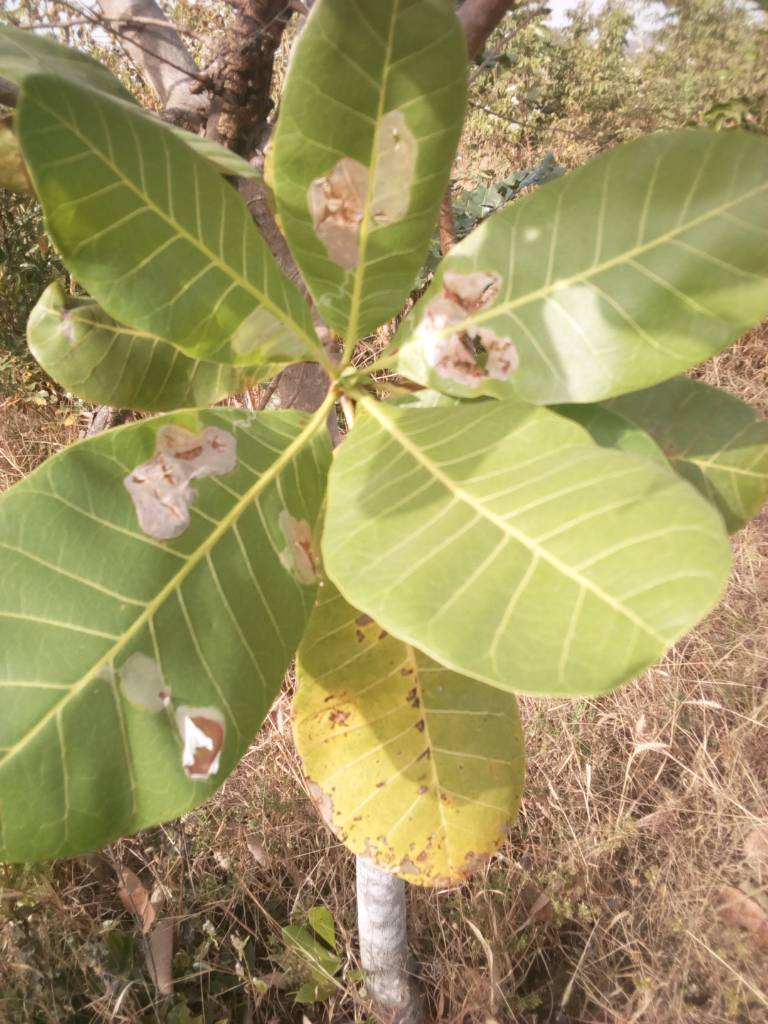Anthracnose: (1, 405, 327, 866), (380, 124, 768, 400), (288, 2, 465, 333), (304, 638, 525, 892)
